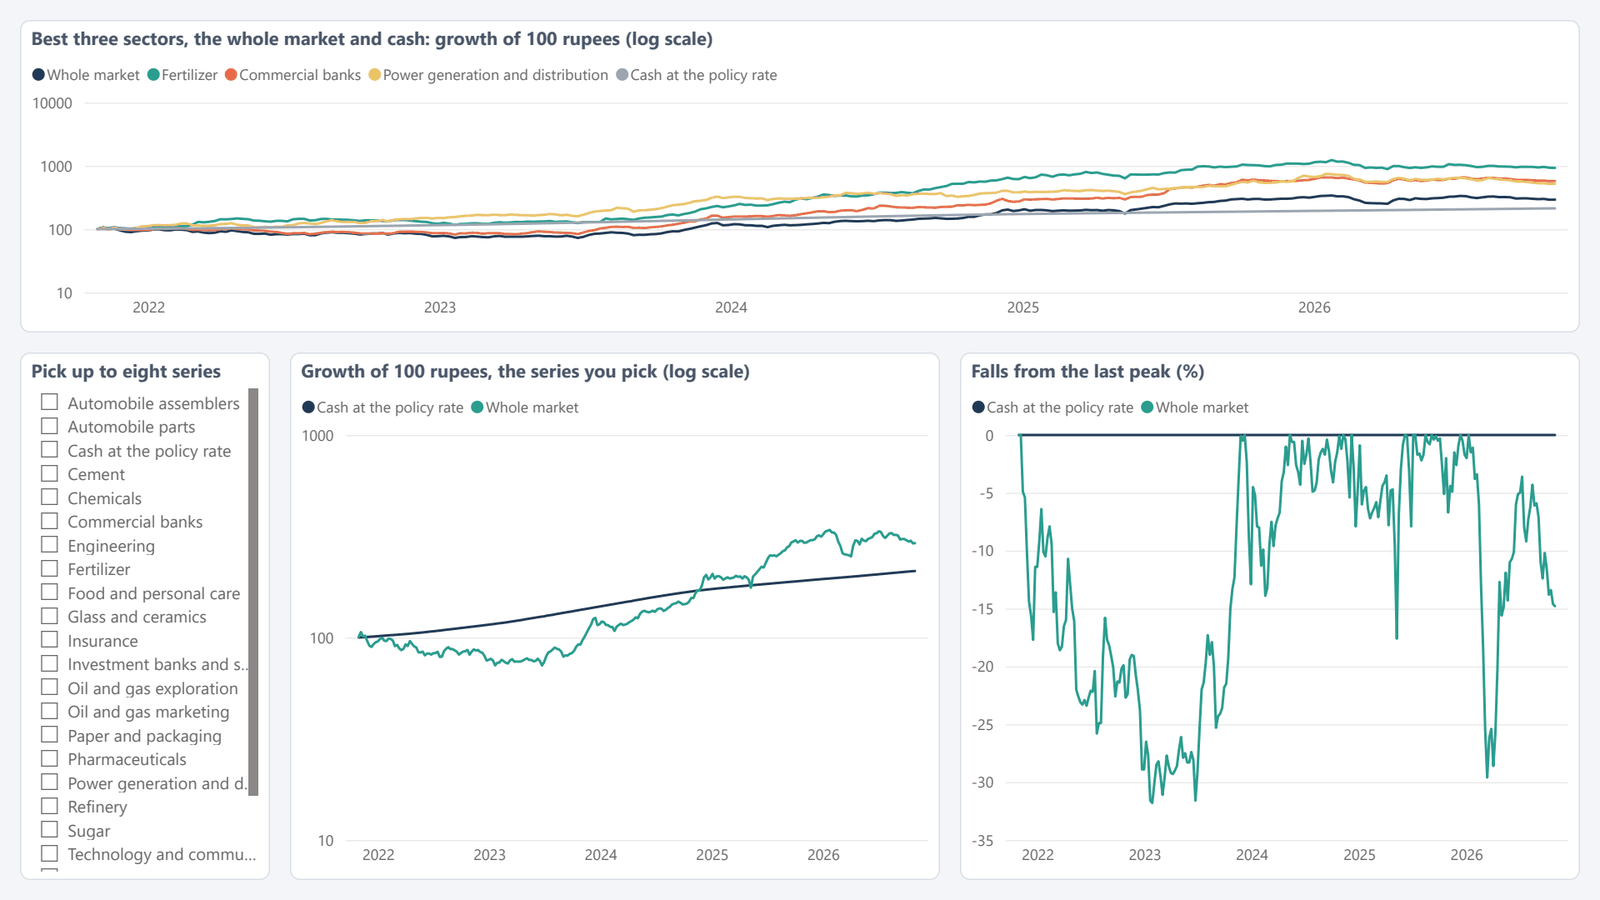

What the dashboard file says about the page in this screenshot:
{"tool":"powerbi","page":{"name":"Ups and downs","canvas":[1280,720],"ordinal":2},"visuals":[{"type":"lineChart","title":"Best three sectors, the whole market and cash: growth of 100 rupees (log scale)","fields":{"Category":["levels_top.date"],"Y":["_Measures.Highlight Level"],"Series":["levels_top.series"]},"box":[16,16,1248,250],"z":0},{"type":"slicer","title":"Pick up to eight series","fields":{"Values":["levels.series"]},"box":[16,282,200,422],"z":1000},{"type":"lineChart","title":"Growth of 100 rupees, the series you pick (log scale)","fields":{"Category":["levels.date"],"Y":["_Measures.Selected Level"],"Series":["levels.series"]},"box":[232,282,520,422],"z":2000},{"type":"lineChart","title":"Falls from the last peak (%)","fields":{"Category":["levels.date"],"Y":["_Measures.Selected Drawdown"],"Series":["levels.series"]},"box":[768,282,496,422],"z":3000}]}

Visuals, with their boxes in screenshot pixels (x1, y1, x2, y2), scaled from the page's 1280x720 canvas onto the 1600x900 screenshot:
"Best three sectors, the whole market and cash: growth of 100 rupees (log scale)" lineChart: <region>20, 20, 1580, 332</region>
"Pick up to eight series" slicer: <region>20, 352, 270, 880</region>
"Growth of 100 rupees, the series you pick (log scale)" lineChart: <region>290, 352, 940, 880</region>
"Falls from the last peak (%)" lineChart: <region>960, 352, 1580, 880</region>
